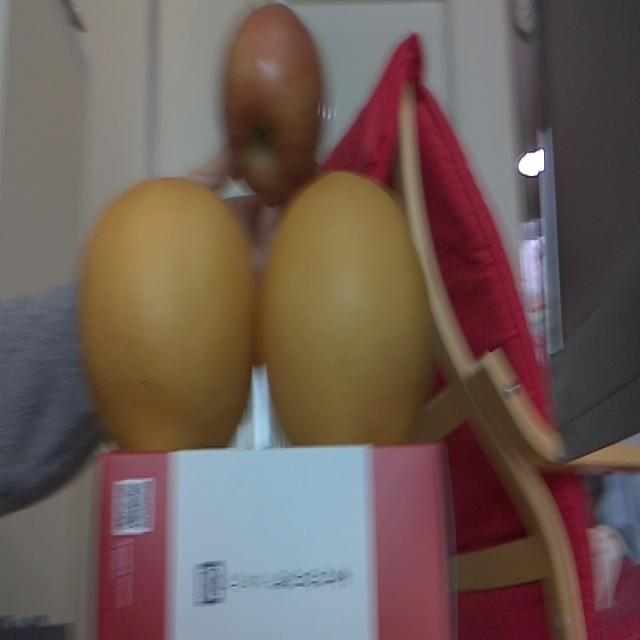apple: (222, 2, 322, 175)
pear: (79, 179, 252, 445), (265, 171, 434, 442)
